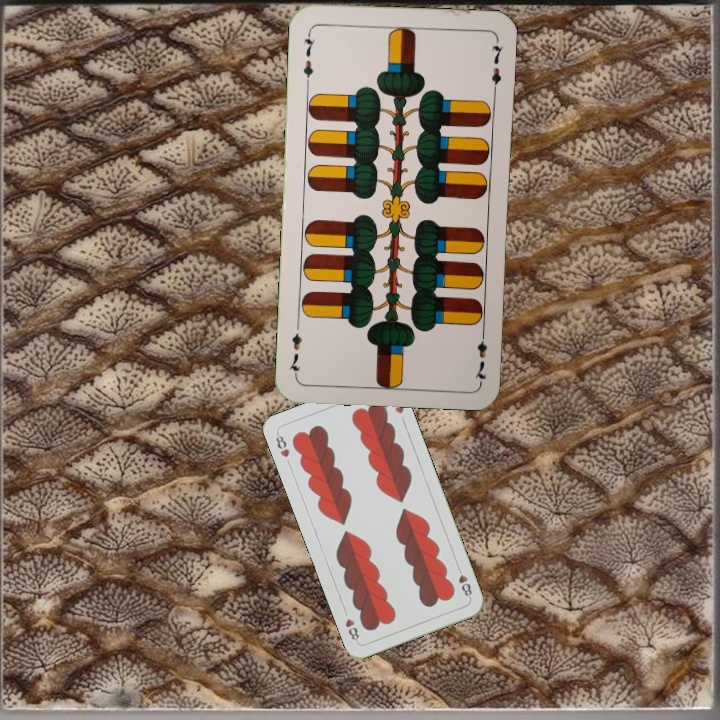E7: (299, 28, 318, 87), (471, 325, 489, 384)
H8: (453, 562, 475, 601), (272, 429, 292, 460)
